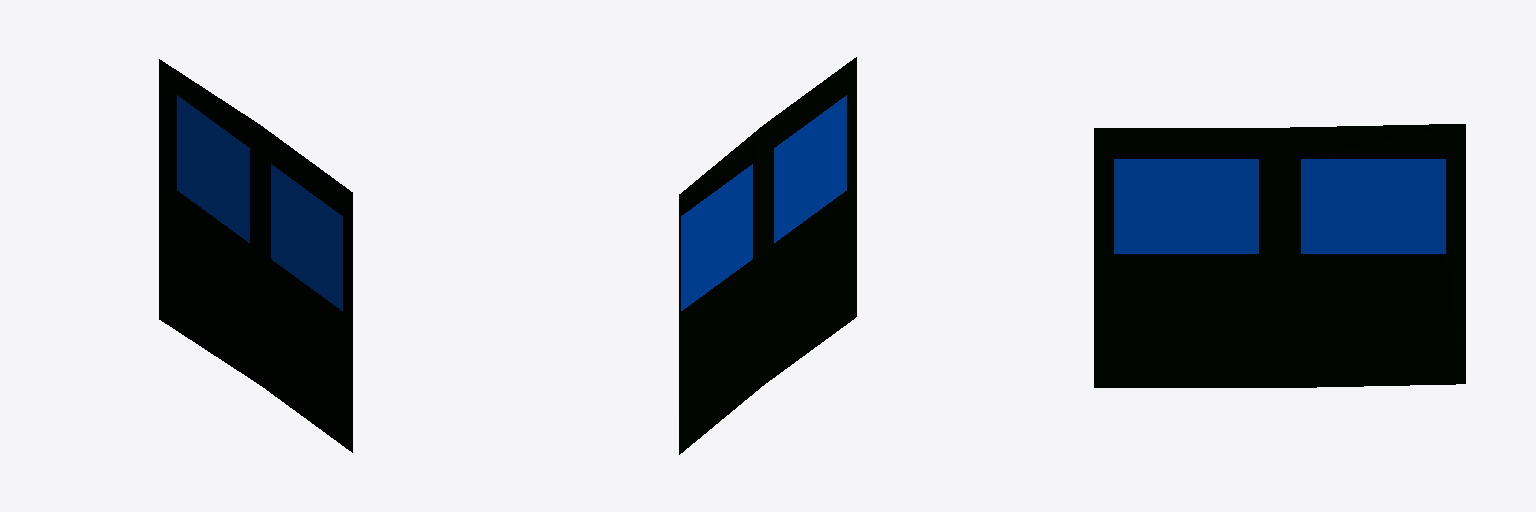
Rendered from door.obj.
3 views of the same model, side by side, from view 1: azimuth 30°, elevation 25°; view 2: azimuth 150°, elevation 25°; view 3: azimuth 270°, elevation 25° (orthographic).
Parts seen in each view (by area): view 1: door; view 2: door; view 3: door.
Part boxes in pixels (left/top/right/bottom): door: left=159, top=59, right=352, bottom=452; door: left=679, top=57, right=856, bottom=454; door: left=1094, top=124, right=1465, bottom=387.
Bounding box in the file's own units: 0.0183 × 0.5521 × 0.7163.